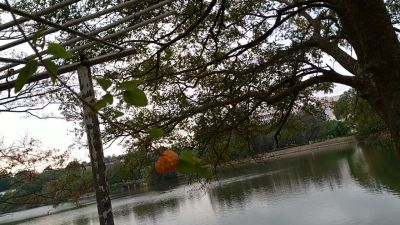eggs: (154, 149, 179, 175)
